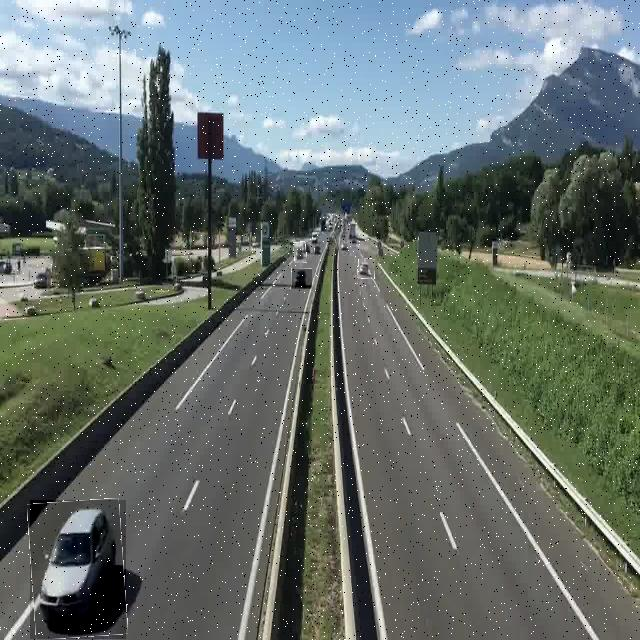Car: (30, 500, 126, 639), (291, 268, 312, 289), (358, 259, 375, 279), (294, 242, 306, 263)
